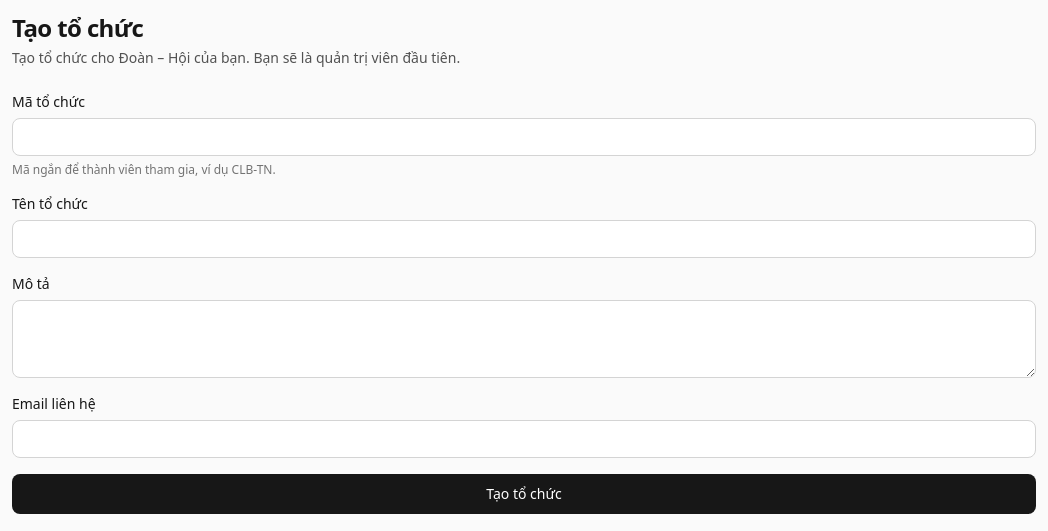
OrgForm — /orgs/new › lands org_code_taken on the code field
The width and height of the screenshot is (1048, 531).
In the field labelled "Mã tổ chức": (524,137) [12,118,1036,156], type "CLB-TN"
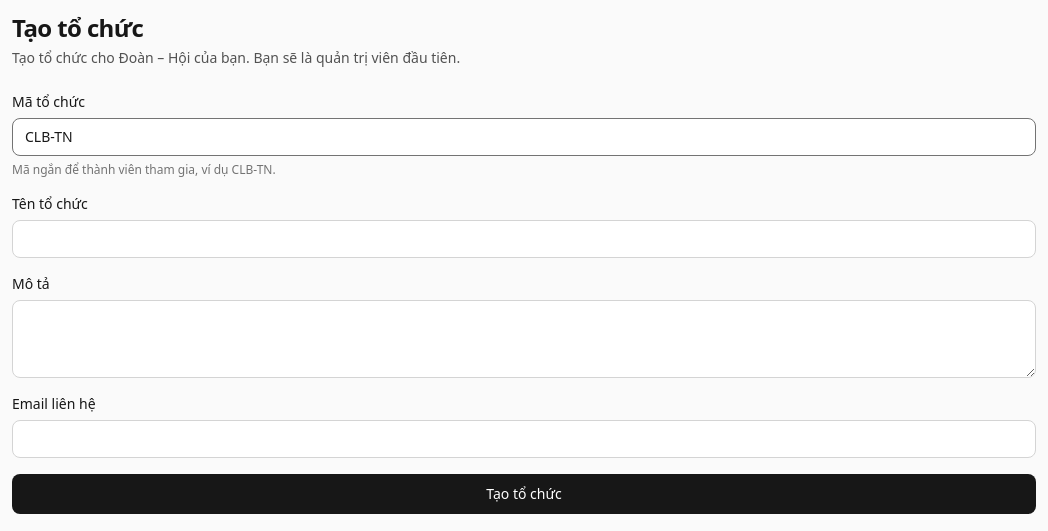
In the field labelled "Tên tổ chức": (524,239) [12,220,1036,258], type "X"
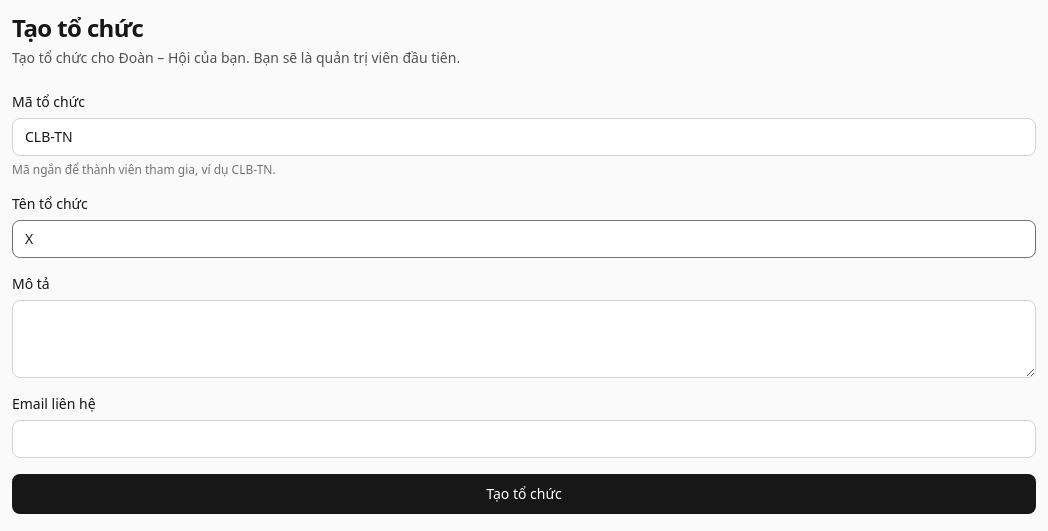
Click the button "Tạo tổ chức": (524,494) [12,474,1036,514]
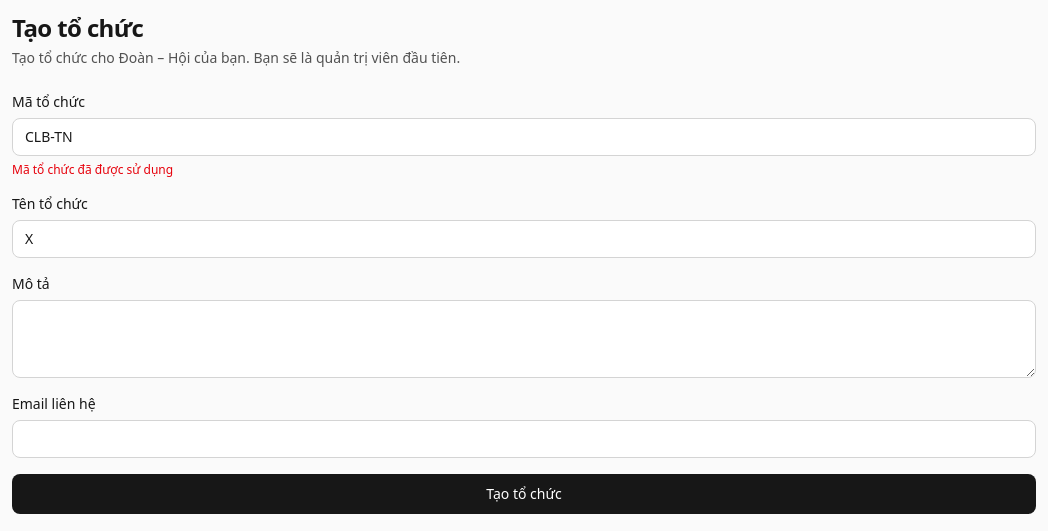
Now the message reads "Mã tổ chức đã được sử dụng", box [12,161,173,178]
